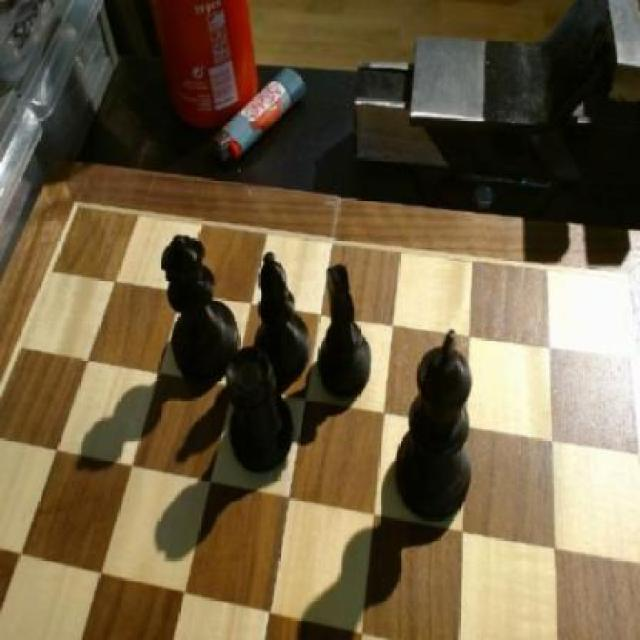bishop: (251, 252, 309, 378)
black-bishop: (394, 320, 476, 512)
black-king: (312, 264, 373, 396)
black-pawn: (161, 234, 244, 378)
black-queen: (223, 348, 298, 468)
